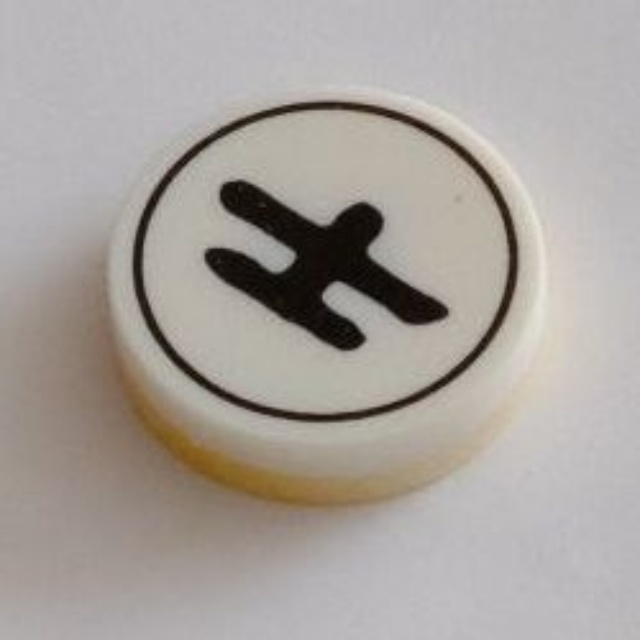black_si: (94, 79, 559, 510)
